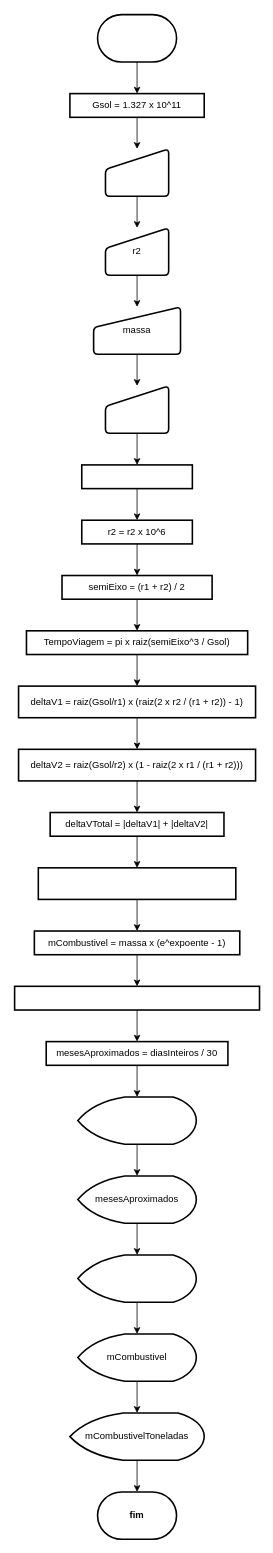
Some shapes in this 273 by 1553 pixel diagram are drawn without their labels. The shapes that lost their labels are listed below. From the top down, each one's centre as x and y in pixels, then its label:
At point 136,37: "inicio".
At point 136,172: "r1".
At point 136,409: "isp".
At point 137,476: "r1 = r1 x 10^6".
At point 136,883: "expoente = deltaVTotal x 10^3 / (isp x 9.81)".
At point 136,997: "diasInteiros = parte inteira de (TempoViagem / 86400)".
At point 137,1120: "diasInteiros".
At point 137,1278: "deltaVTotal".
